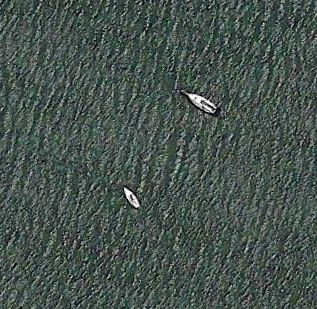boat: (180, 90, 219, 115), (122, 185, 141, 210)
